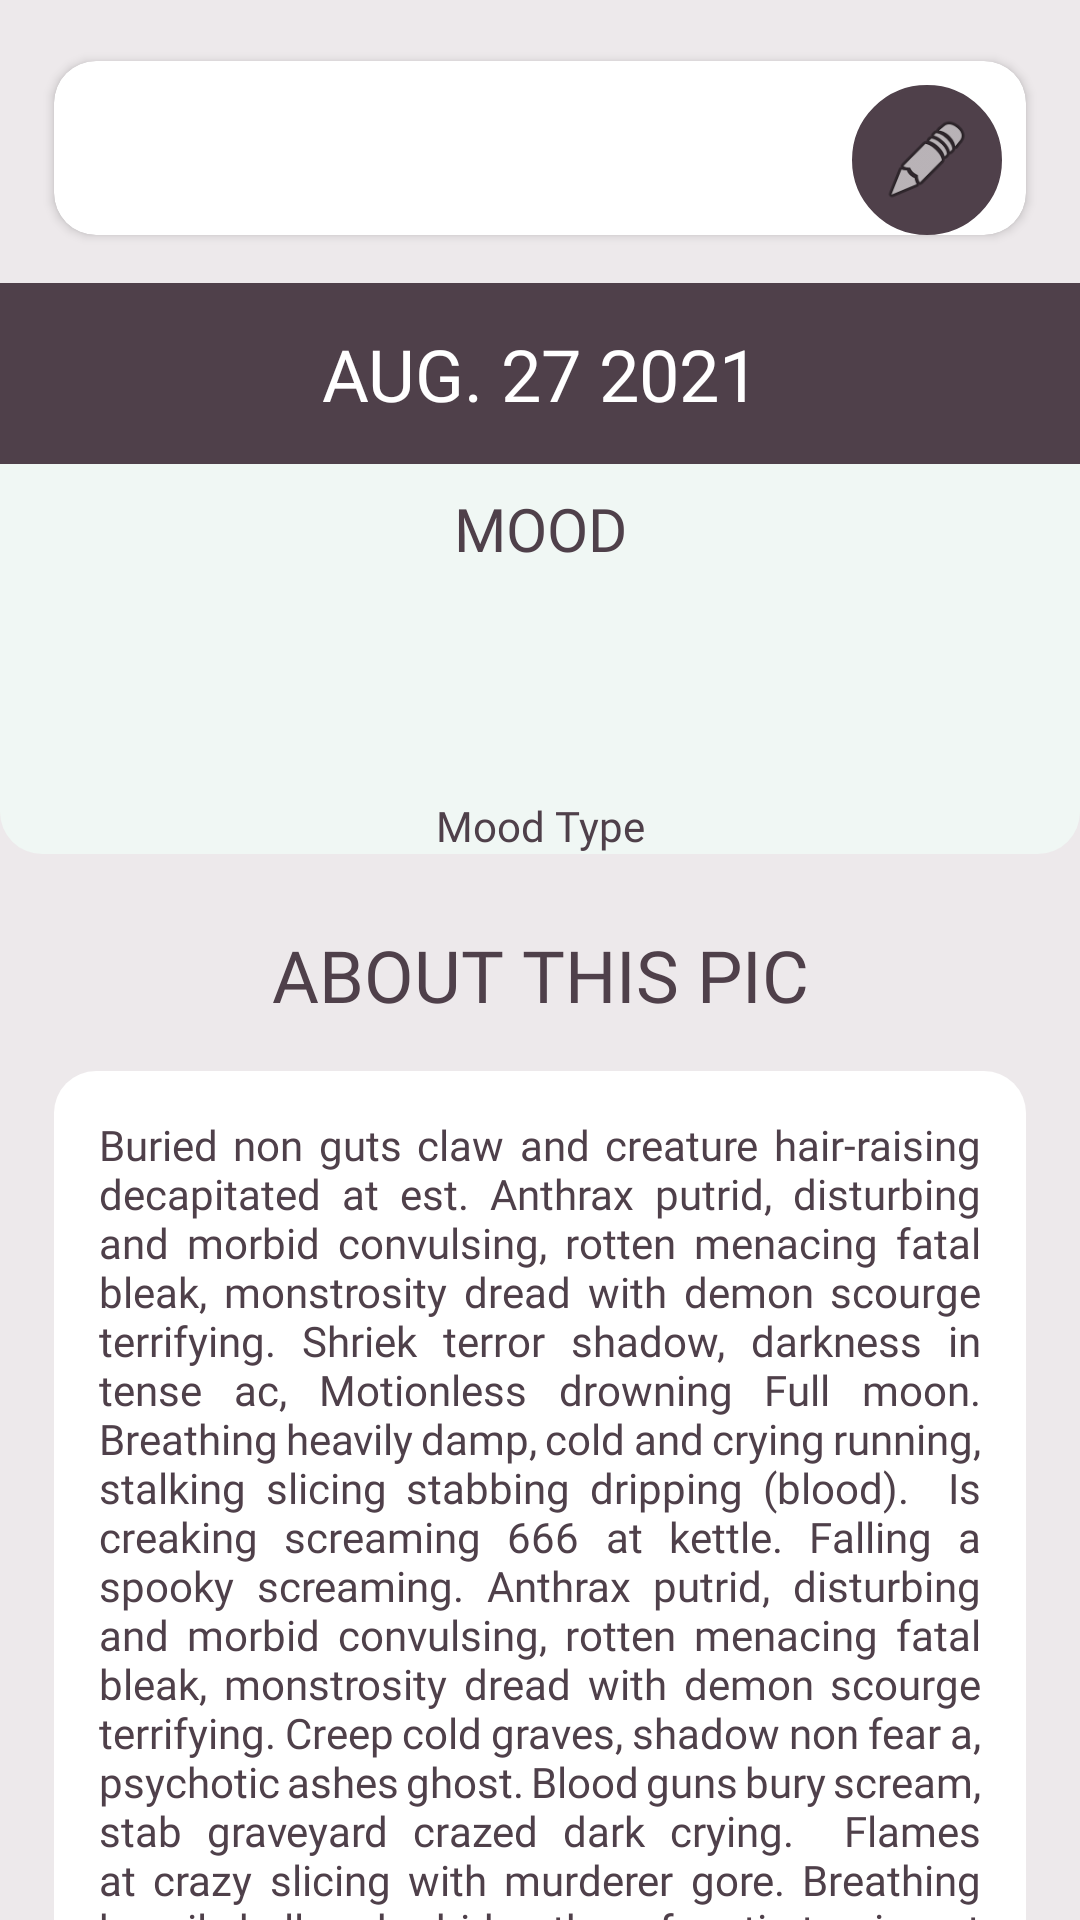

Icons on this 1080px x 1920px Android screen, each with its box as [x1,y1,x2,y2]:
edit: [852,85,1002,235]
